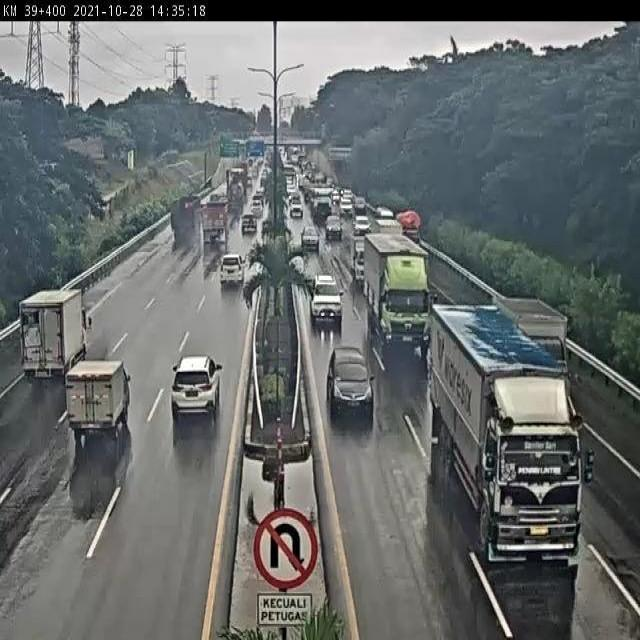big truck: (437, 318, 602, 558), (361, 236, 440, 347), (162, 196, 193, 256), (195, 206, 228, 262)
car: (52, 354, 137, 454), (165, 348, 225, 436), (327, 340, 379, 412), (306, 278, 347, 330), (213, 251, 249, 296), (319, 206, 342, 242), (295, 219, 321, 248), (238, 210, 262, 238), (349, 213, 372, 235), (88, 461, 89, 463)
small truck: (487, 271, 577, 380), (14, 277, 86, 376)
